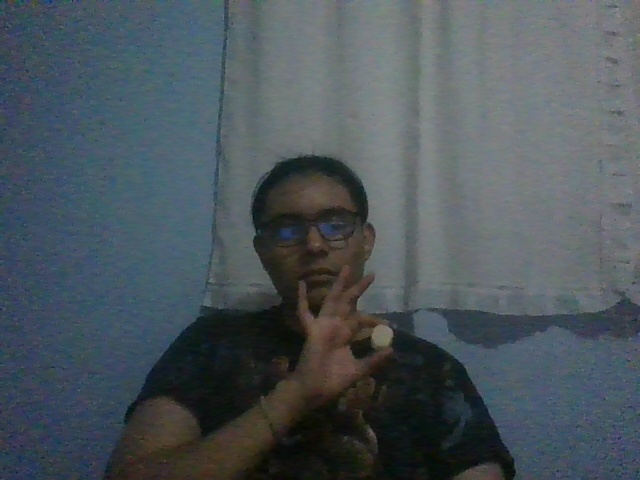goma: (369, 324, 394, 353)
